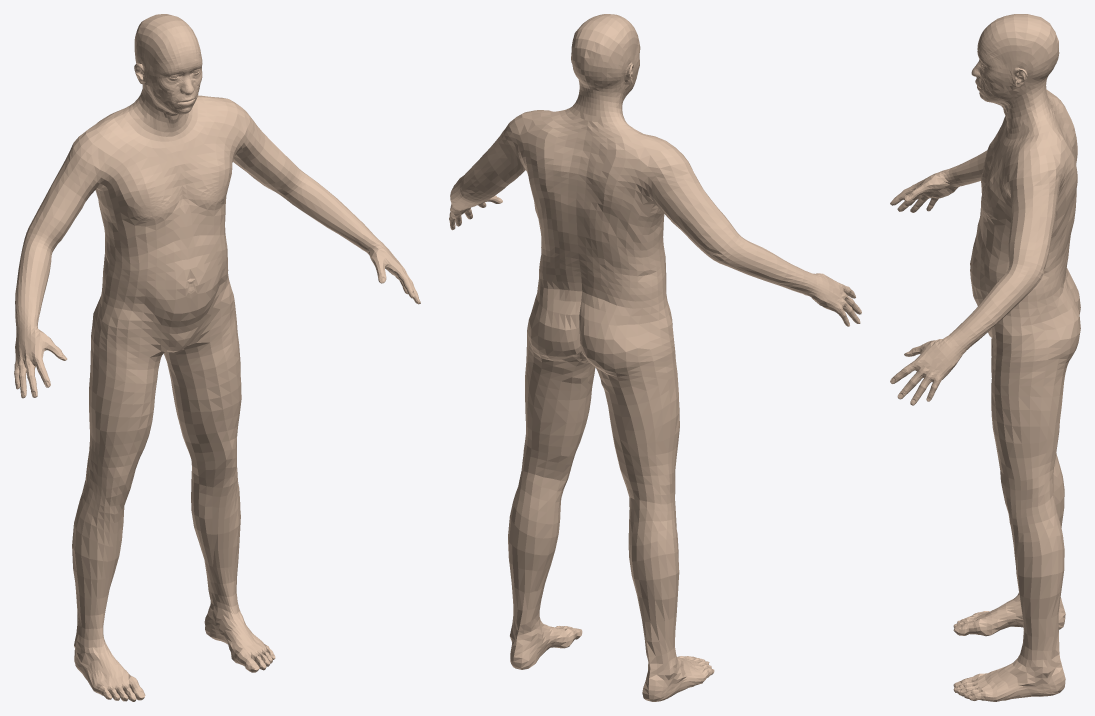
The model's file is male-mature-max-medium.glb.
3 renders of one model, left to right at view 1: azimuth 30°, elevation 25°; view 2: azimuth 150°, elevation 25°; view 3: azimuth 270°, elevation 25°, orthographic.
Visible parts, largest first — view 1: world; view 2: world; view 3: world.
Part boxes in pixels (x1,y1,x2,y2): world: [14, 14, 420, 701]; world: [449, 14, 861, 701]; world: [890, 14, 1080, 701].
Bounding box in the file's own units: 1.25 × 1.94 × 0.5198.
